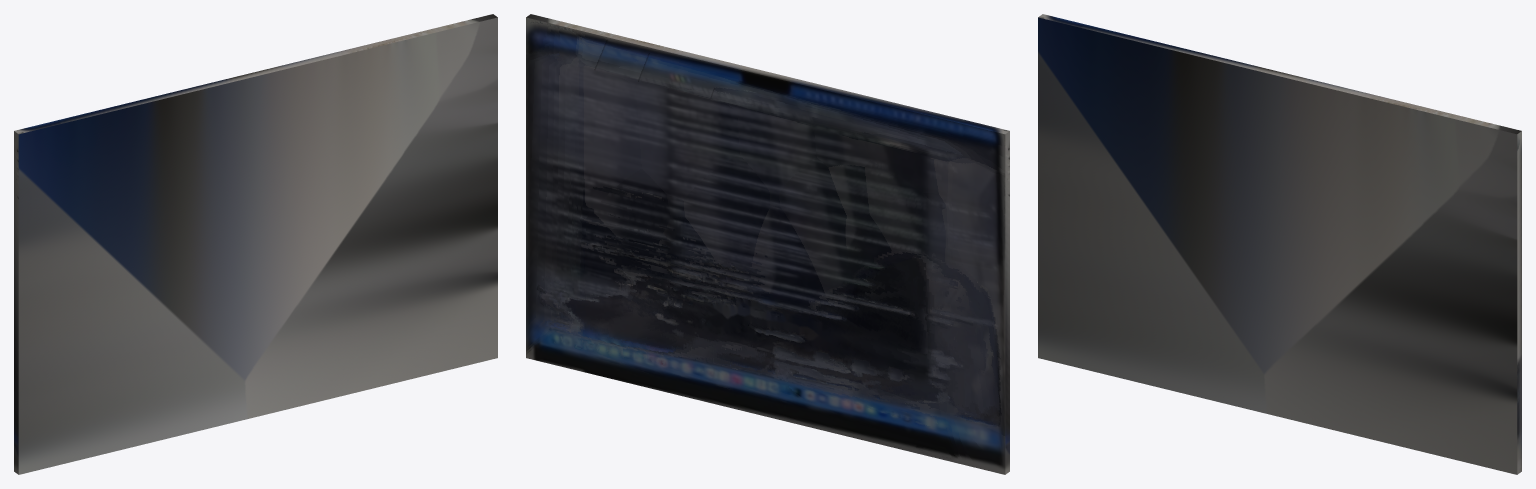
Rendered from laptop_lid.glb.
The picture shows the model from 3 angles, left to right: view 1: azimuth 30°, elevation 25°; view 2: azimuth 150°, elevation 25°; view 3: azimuth 330°, elevation 25°; orthographic projection.
Visible parts, largest first — view 1: laptop_lid.obj; view 2: laptop_lid.obj; view 3: laptop_lid.obj.
Part boxes in pixels (x1=…): laptop_lid.obj: x1=14, y1=14, x2=497, y2=474; laptop_lid.obj: x1=526, y1=14, x2=1009, y2=474; laptop_lid.obj: x1=1038, y1=14, x2=1521, y2=474.
Size of the model in its own units: 0.4284 by 0.291 by 0.00728.
Materials: 1 (1 with a texture image).
